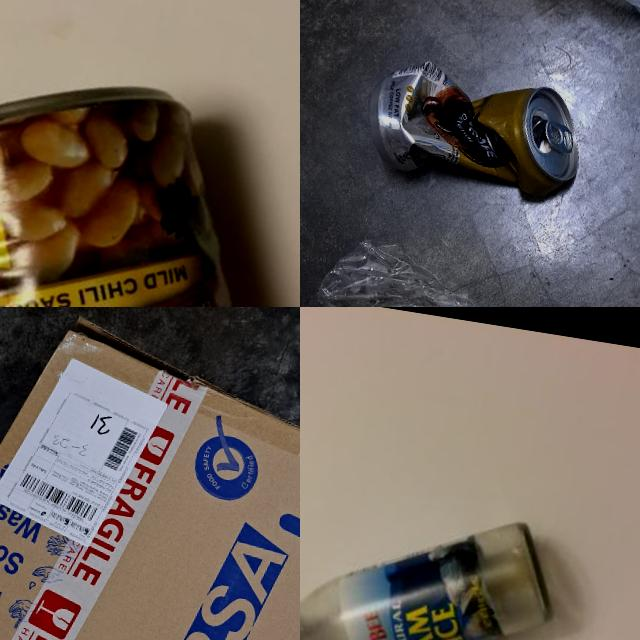aba de lata: (536, 110, 578, 156)
garrafa de vidro: (300, 482, 565, 640)
garrafa plástica: (300, 227, 628, 307)
lata: (0, 45, 300, 307), (360, 49, 596, 226)
papelão: (0, 307, 300, 640)
